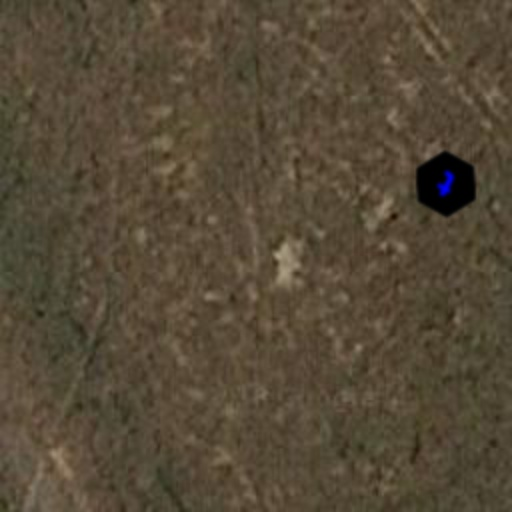hexagon: (398, 136, 494, 232)
